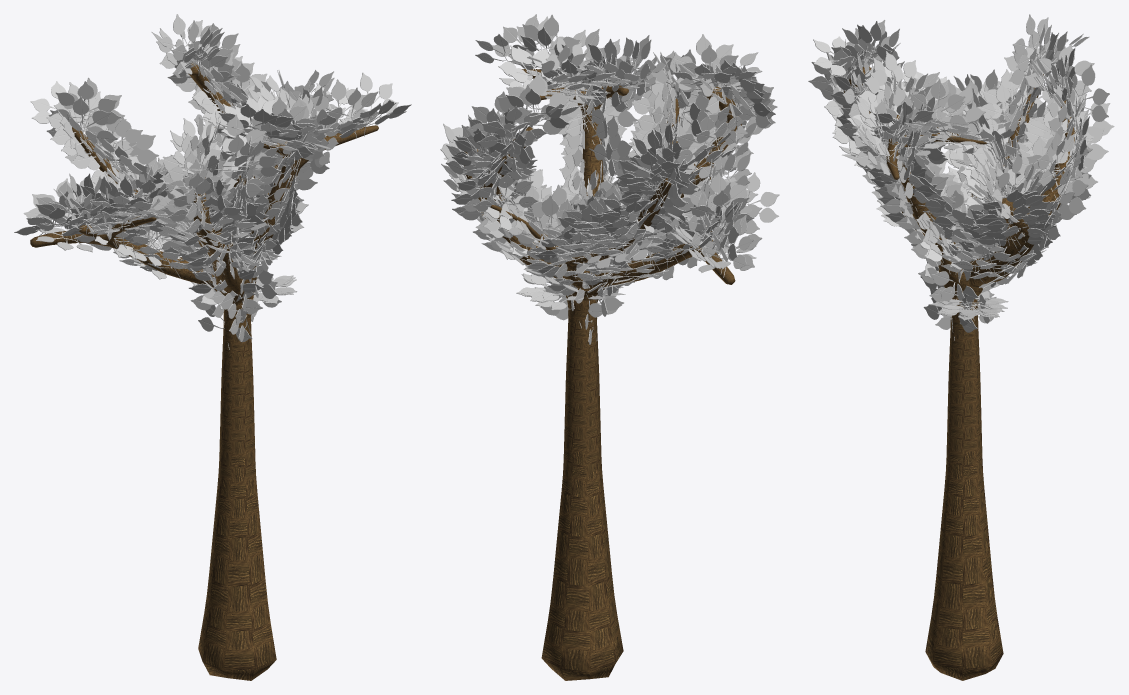
File: baum4.fbx
3 views of the same model, side by side, from view 1: azimuth 30°, elevation 25°; view 2: azimuth 150°, elevation 25°; view 3: azimuth 270°, elevation 25° (orthographic).
Parts seen in each view (by area): view 1: tree, tree|leaf|Dupli|434.0.0.0.0.0.0.0.0.0, tree|leaf|Dupli|419.0.0.0.0.0.0.0.0.0, tree|leaf|Dupli|430.0.0.0.0.0.0.0.0.0, tree|leaf|Dupli|274.0.0.0.0.0.0.0.0.0, tree|leaf|Dupli|412.0.0.0.0.0.0.0.0.0, tree|leaf|Dupli|499.0.0.0.0.0.0.0.0.0, tree|leaf|Dupli|14.0.0.0.0.0.0.0.0.0, tree|leaf|Dupli|272.0.0.0.0.0.0.0.0.0, tree|leaf|Dupli|432.0.0.0.0.0.0.0.0.0, tree|leaf|Dupli|68.0.0.0.0.0.0.0.0.0, tree|leaf|Dupli|277.0.0.0.0.0.0.0.0.0 (+2 smaller); view 2: tree, tree|leaf|Dupli|415.0.0.0.0.0.0.0.0.0, tree|leaf|Dupli|407.0.0.0.0.0.0.0.0.0, tree|leaf|Dupli|446.0.0.0.0.0.0.0.0.0, tree|leaf|Dupli|242.0.0.0.0.0.0.0.0.0, tree|leaf|Dupli|241.0.0.0.0.0.0.0.0.0, tree|leaf|Dupli|431.0.0.0.0.0.0.0.0.0, tree|leaf|Dupli|243.0.0.0.0.0.0.0.0.0, tree|leaf|Dupli|29.0.0.0.0.0.0.0.0.0, tree|leaf|Dupli|408.0.0.0.0.0.0.0.0.0, tree|leaf|Dupli|412.0.0.0.0.0.0.0.0.0, tree|leaf|Dupli|410.0.0.0.0.0.0.0.0.0 (+18 smaller); view 3: tree, tree|leaf|Dupli|325.0.0.0.0.0.0.0.0.0, tree|leaf|Dupli|413.0.0.0.0.0.0.0.0.0, tree|leaf|Dupli|407.0.0.0.0.0.0.0.0.0, tree|leaf|Dupli|371.0.0.0.0.0.0.0.0.0, tree|leaf|Dupli|254.0.0.0.0.0.0.0.0.0, tree|leaf|Dupli|319.0.0.0.0.0.0.0.0.0, tree|leaf|Dupli|434.0.0.0.0.0.0.0.0.0, tree|leaf|Dupli|420.0.0.0.0.0.0.0.0.0, tree|leaf|Dupli|391.0.0.0.0.0.0.0.0.0, tree|leaf|Dupli|385.0.0.0.0.0.0.0.0.0, tree|leaf|Dupli|324.0.0.0.0.0.0.0.0.0 (+11 smaller).
Part boxes in pixels (x1,y1,x2,y2): tree: [30, 62, 378, 680]; tree|leaf|Dupli|434.0.0.0.0.0.0.0.0.0: [48, 81, 121, 125]; tree|leaf|Dupli|419.0.0.0.0.0.0.0.0.0: [92, 116, 158, 166]; tree|leaf|Dupli|430.0.0.0.0.0.0.0.0.0: [46, 96, 118, 155]; tree|leaf|Dupli|274.0.0.0.0.0.0.0.0.0: [326, 87, 379, 138]; tree|leaf|Dupli|412.0.0.0.0.0.0.0.0.0: [156, 14, 212, 71]; tree|leaf|Dupli|499.0.0.0.0.0.0.0.0.0: [212, 114, 266, 179]; tree|leaf|Dupli|14.0.0.0.0.0.0.0.0.0: [167, 178, 232, 221]; tree|leaf|Dupli|272.0.0.0.0.0.0.0.0.0: [310, 79, 365, 119]; tree|leaf|Dupli|432.0.0.0.0.0.0.0.0.0: [46, 90, 106, 148]; tree|leaf|Dupli|68.0.0.0.0.0.0.0.0.0: [188, 269, 263, 302]; tree|leaf|Dupli|277.0.0.0.0.0.0.0.0.0: [344, 72, 398, 126]; tree: [464, 69, 741, 680]; tree|leaf|Dupli|415.0.0.0.0.0.0.0.0.0: [472, 173, 538, 218]; tree|leaf|Dupli|407.0.0.0.0.0.0.0.0.0: [476, 106, 547, 147]; tree|leaf|Dupli|446.0.0.0.0.0.0.0.0.0: [675, 45, 738, 94]; tree|leaf|Dupli|242.0.0.0.0.0.0.0.0.0: [685, 172, 751, 226]; tree|leaf|Dupli|241.0.0.0.0.0.0.0.0.0: [685, 190, 754, 231]; tree|leaf|Dupli|431.0.0.0.0.0.0.0.0.0: [616, 151, 689, 196]; tree|leaf|Dupli|243.0.0.0.0.0.0.0.0.0: [722, 172, 779, 222]; tree|leaf|Dupli|29.0.0.0.0.0.0.0.0.0: [674, 114, 739, 167]; tree|leaf|Dupli|408.0.0.0.0.0.0.0.0.0: [466, 91, 537, 155]; tree|leaf|Dupli|412.0.0.0.0.0.0.0.0.0: [502, 88, 569, 128]; tree|leaf|Dupli|410.0.0.0.0.0.0.0.0.0: [498, 73, 572, 126]; tree: [843, 66, 1076, 680]; tree|leaf|Dupli|325.0.0.0.0.0.0.0.0.0: [909, 79, 969, 133]; tree|leaf|Dupli|413.0.0.0.0.0.0.0.0.0: [1024, 44, 1094, 95]; tree|leaf|Dupli|407.0.0.0.0.0.0.0.0.0: [1055, 64, 1109, 121]; tree|leaf|Dupli|371.0.0.0.0.0.0.0.0.0: [976, 189, 1050, 230]; tree|leaf|Dupli|254.0.0.0.0.0.0.0.0.0: [870, 51, 920, 101]; tree|leaf|Dupli|319.0.0.0.0.0.0.0.0.0: [871, 101, 940, 136]; tree|leaf|Dupli|434.0.0.0.0.0.0.0.0.0: [1012, 14, 1050, 71]; tree|leaf|Dupli|420.0.0.0.0.0.0.0.0.0: [977, 82, 1030, 133]; tree|leaf|Dupli|391.0.0.0.0.0.0.0.0.0: [1037, 130, 1074, 186]; tree|leaf|Dupli|385.0.0.0.0.0.0.0.0.0: [1010, 136, 1073, 198]; tree|leaf|Dupli|324.0.0.0.0.0.0.0.0.0: [931, 85, 985, 135].
Bounding box in the file's own units: 146 × 182 × 327.
Materials: 6 (1 with a texture image).
